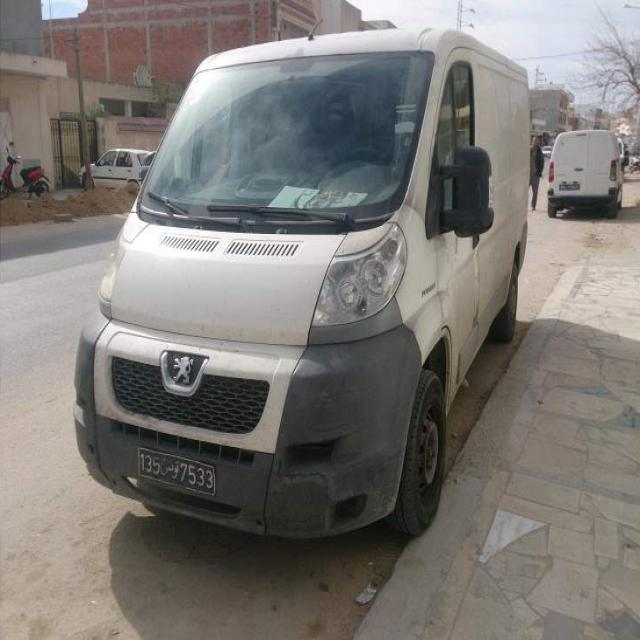licence plate: (140, 450, 214, 494)
